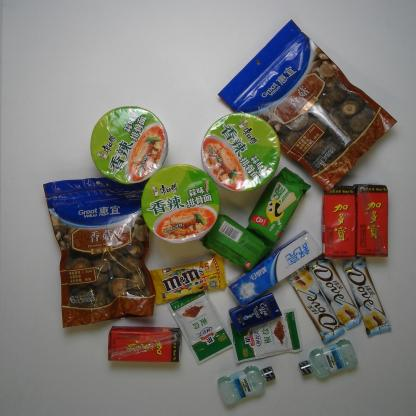Chocolate: (287, 264, 344, 343), (340, 255, 392, 336), (308, 253, 361, 330), (148, 253, 226, 305)
Dessert: (246, 168, 312, 246), (200, 213, 272, 273)
Dried Food: (218, 19, 398, 192), (42, 174, 156, 327)
Drink: (354, 183, 389, 258), (109, 328, 180, 364), (323, 186, 356, 261)
Instant Noodles: (202, 113, 281, 191), (91, 105, 168, 183), (141, 165, 220, 241)
Personal Hygiene: (227, 231, 322, 307), (217, 364, 275, 407), (299, 340, 358, 380), (228, 293, 284, 330)
Seasoner: (166, 286, 233, 364), (228, 310, 303, 364)
